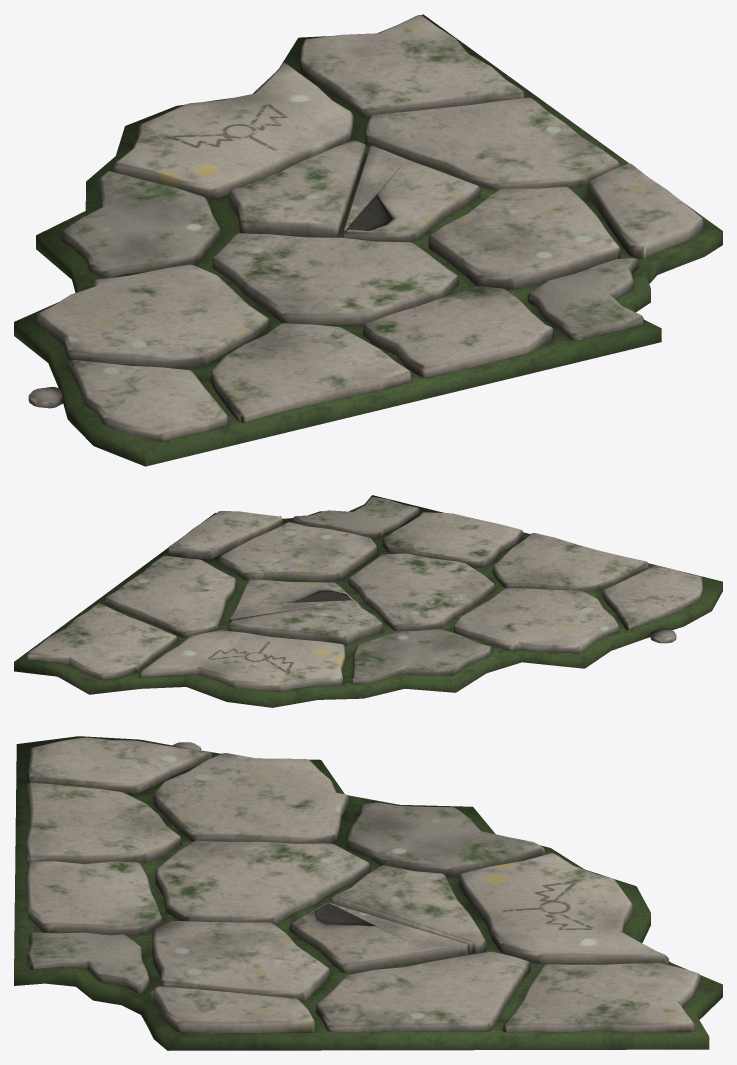
File: PathFlagstoneCurve.fbx
3 renders of one model, top to bottom at view 1: azimuth 30°, elevation 25°; view 2: azimuth 150°, elevation 25°; view 3: azimuth 270°, elevation 25°, orthographic. The views are drawn at different scales.
Parts seen in each view (by area): view 1: PathFlagstoneCurve; view 2: PathFlagstoneCurve; view 3: PathFlagstoneCurve.
Boxes of the visible parts, x1,y1,x2,y2 form: PathFlagstoneCurve: (14,14,722,466); PathFlagstoneCurve: (14,495,722,707); PathFlagstoneCurve: (14,736,722,1050).
Bounding box in the file's own units: 868 × 34.25 × 856.
